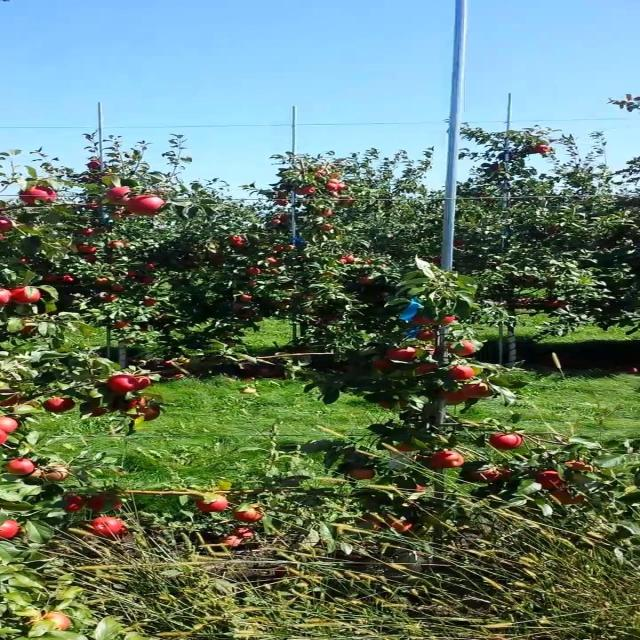apple: (462, 0, 638, 168), (111, 398, 162, 421), (127, 195, 164, 215), (126, 400, 161, 421), (20, 185, 58, 204), (91, 516, 127, 536), (87, 492, 122, 512), (469, 466, 511, 482), (429, 450, 464, 469), (38, 611, 71, 630), (107, 374, 138, 394), (460, 381, 493, 399), (551, 488, 584, 505), (196, 495, 229, 512), (233, 504, 264, 522), (42, 396, 76, 412), (536, 470, 564, 489), (449, 339, 480, 356), (11, 286, 40, 304), (80, 398, 109, 416), (489, 434, 522, 449), (7, 458, 36, 475), (104, 186, 131, 204), (356, 514, 384, 531), (438, 390, 469, 405), (42, 464, 69, 481), (384, 348, 418, 361), (449, 365, 476, 380), (62, 494, 84, 512), (0, 520, 20, 538), (564, 460, 596, 471), (0, 389, 20, 406), (389, 520, 413, 534), (371, 358, 396, 371), (231, 526, 256, 539), (349, 468, 376, 480), (0, 215, 16, 233), (23, 468, 45, 480), (416, 362, 438, 374), (133, 375, 151, 389), (411, 315, 436, 325), (416, 329, 436, 341), (0, 422, 12, 441), (420, 347, 438, 359), (378, 401, 404, 409), (0, 288, 11, 306), (440, 315, 458, 325), (422, 346, 438, 356), (393, 444, 413, 452), (91, 408, 109, 416)
